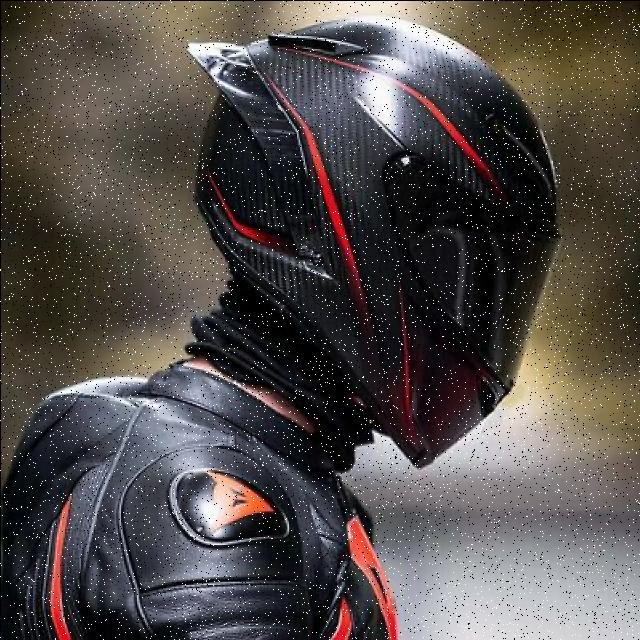Helmet: (179, 13, 562, 470)
